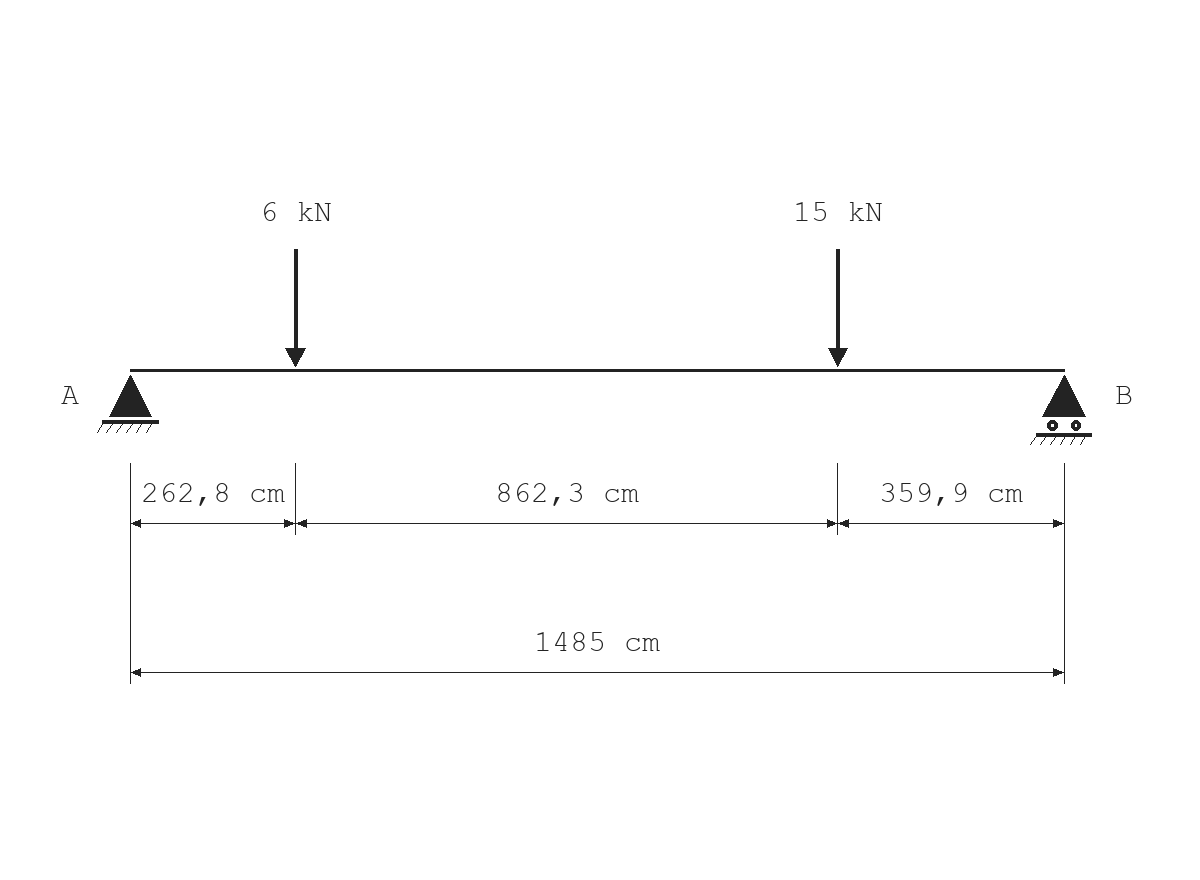pin_support: (97, 375, 159, 433)
point_load: (285, 249, 306, 367), (828, 249, 848, 367)
roller_support: (1030, 375, 1092, 445)
